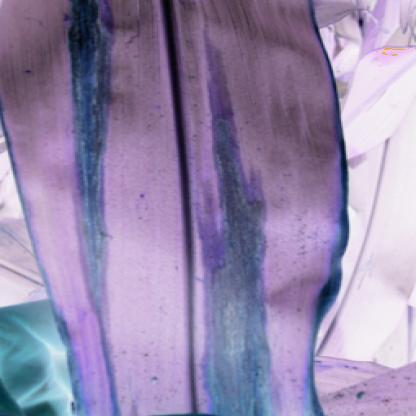Corn leaf blight: (1, 57, 414, 286)
